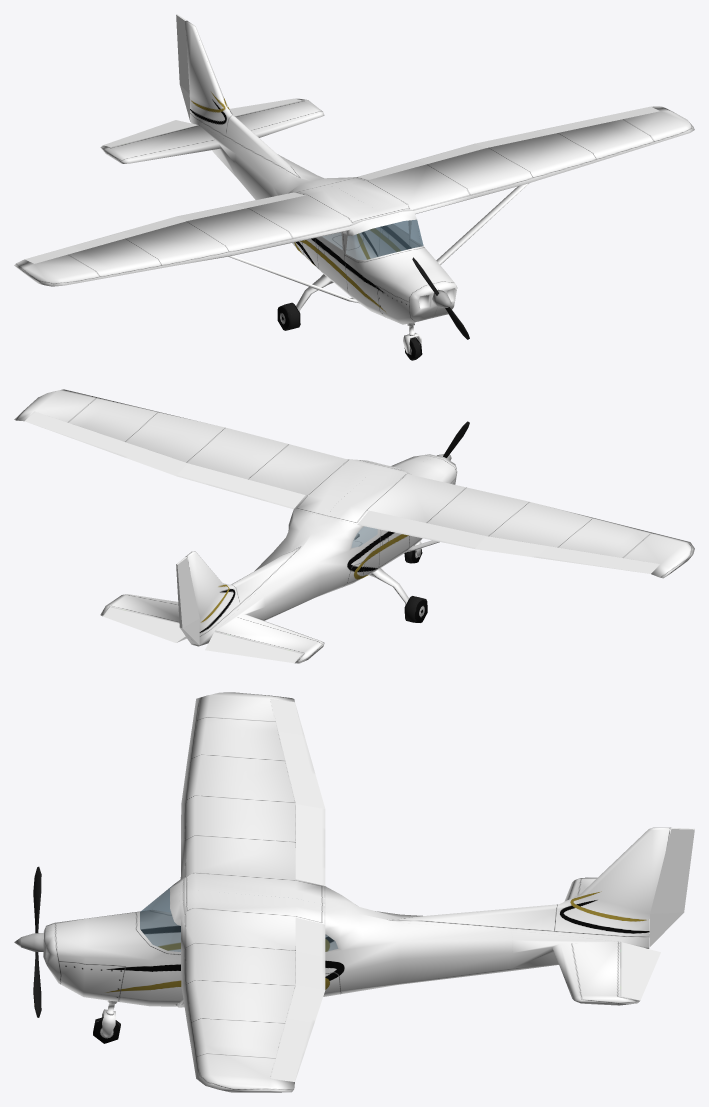
File: airplane.glb
3 views of the same model, one above another, from view 1: azimuth 30°, elevation 25°; view 2: azimuth 150°, elevation 25°; view 3: azimuth 270°, elevation 25° (orthographic). The views are drawn at different scales.
Visible parts, largest first — view 1: Fuselage, LeftAileron, RightAileron, Elevator, LeftFlap, Rudder, RightFlap, Prop, RightWheel; view 2: Fuselage, Elevator, LeftAileron, RightAileron, LeftFlap, RightFlap, Rudder, RightWheel; view 3: Fuselage, Rudder, RightAileron, LeftAileron, RightFlap, LeftFlap, Elevator, Prop.
Part boxes in pixels (bbox=[...]): Fuselage: bbox=[14, 20, 694, 353]; LeftAileron: bbox=[475, 106, 659, 147]; RightAileron: bbox=[25, 216, 187, 263]; Elevator: bbox=[103, 98, 301, 147]; LeftFlap: bbox=[358, 143, 485, 179]; Rudder: bbox=[176, 14, 190, 121]; RightFlap: bbox=[176, 192, 305, 220]; Prop: bbox=[412, 257, 469, 339]; RightWheel: bbox=[277, 302, 300, 330]; Fuselage: bbox=[14, 389, 694, 663]; Elevator: bbox=[103, 606, 302, 663]; LeftAileron: bbox=[25, 411, 187, 475]; RightAileron: bbox=[475, 536, 660, 573]; LeftFlap: bbox=[176, 463, 305, 509]; RightFlap: bbox=[357, 510, 485, 548]; Rudder: bbox=[176, 557, 199, 645]; RightWheel: bbox=[404, 596, 427, 622]; Fuselage: bbox=[43, 692, 671, 1092]; Rudder: bbox=[650, 827, 694, 946]; RightAileron: bbox=[270, 699, 325, 808]; LeftAileron: bbox=[270, 985, 325, 1081]; RightFlap: bbox=[295, 804, 325, 885]; LeftFlap: bbox=[295, 918, 325, 989]; Elevator: bbox=[620, 919, 660, 1000]; Prop: bbox=[14, 866, 43, 1017].
Bounding box in the file's own units: 13.01 × 3.31 × 9.5.
Materials: 2 (1 with a texture image).
